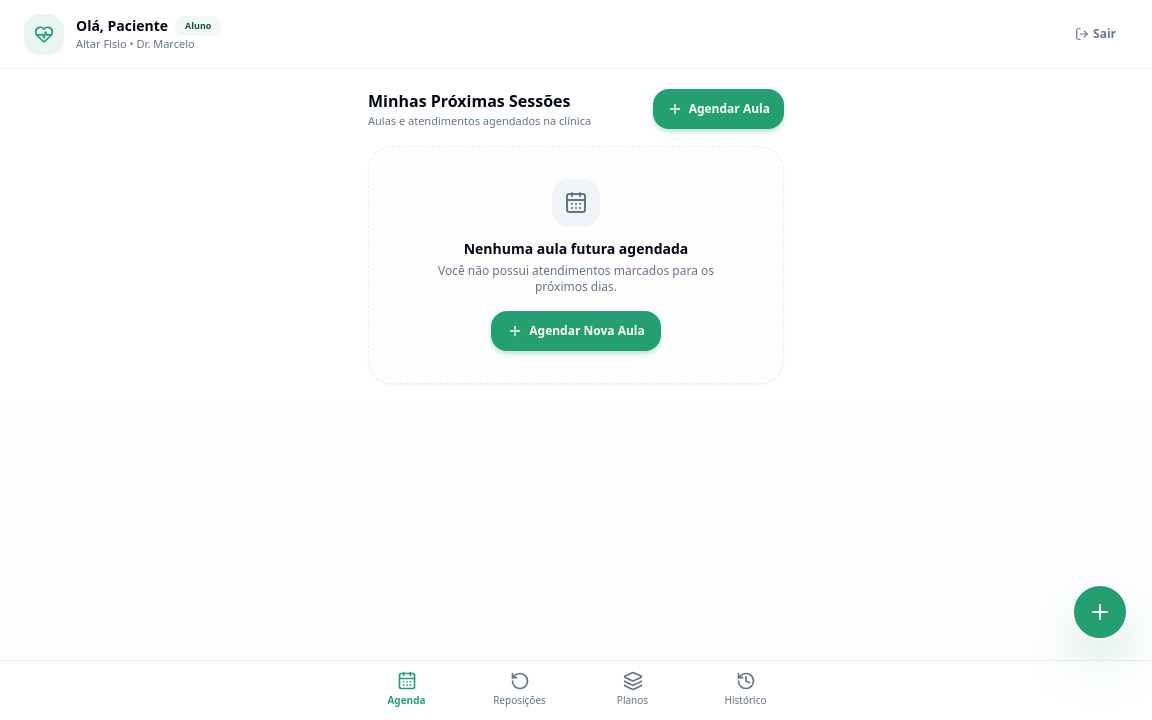
confirmation displays the actual time and resources of each occurrence
Click the button "Agendar Aula". click: (718, 109)
box: [653,89,784,129]
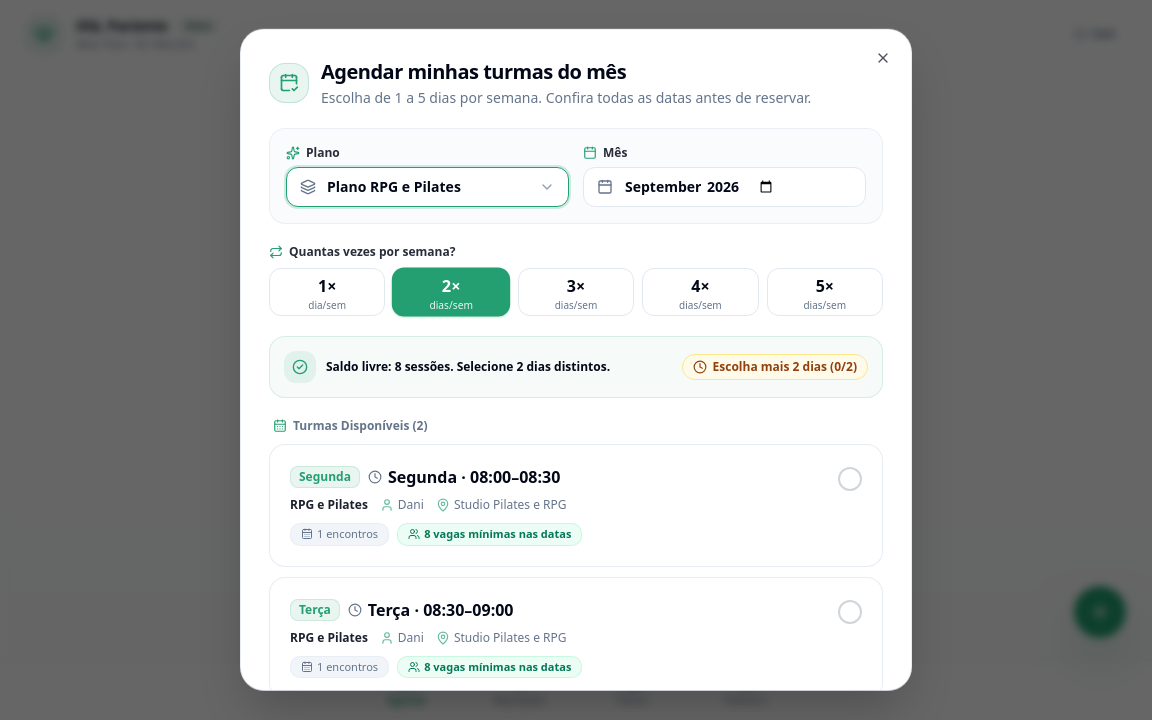
Click the button "1× dia/sem". click: (327, 292)
box: [269,268,385,316]
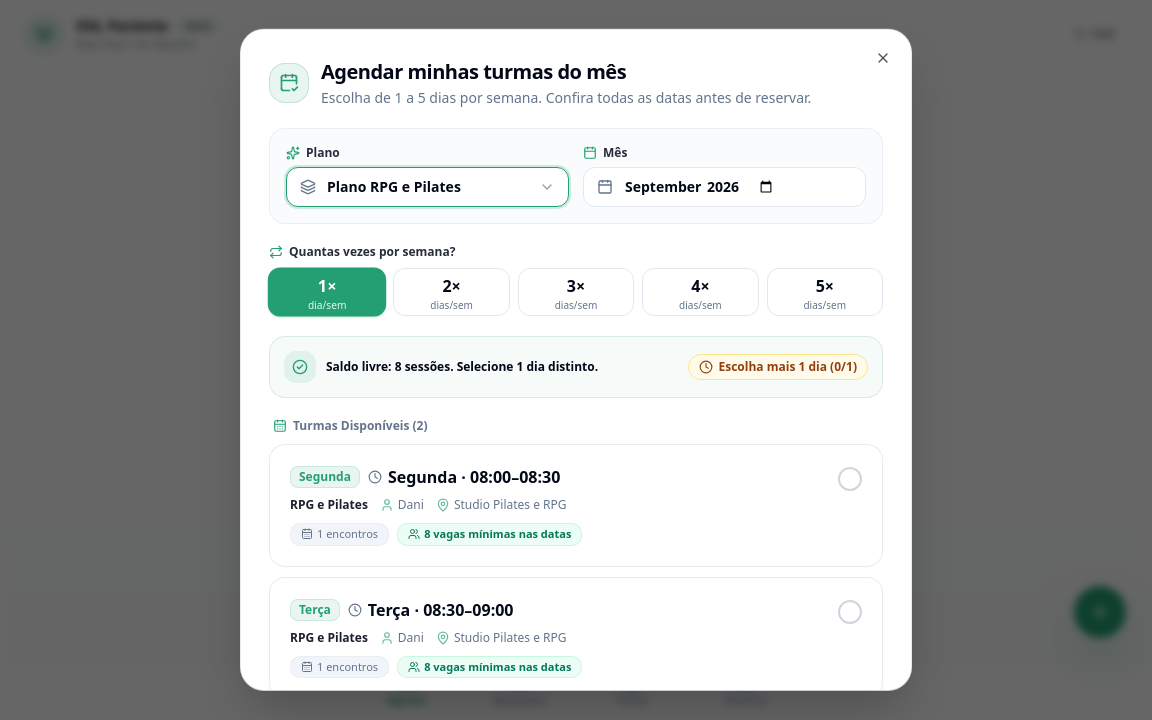
Click the button "Segunda · 08:00–08:30". click: (325, 477)
box: [269,444,883,566]
(page scrolled)
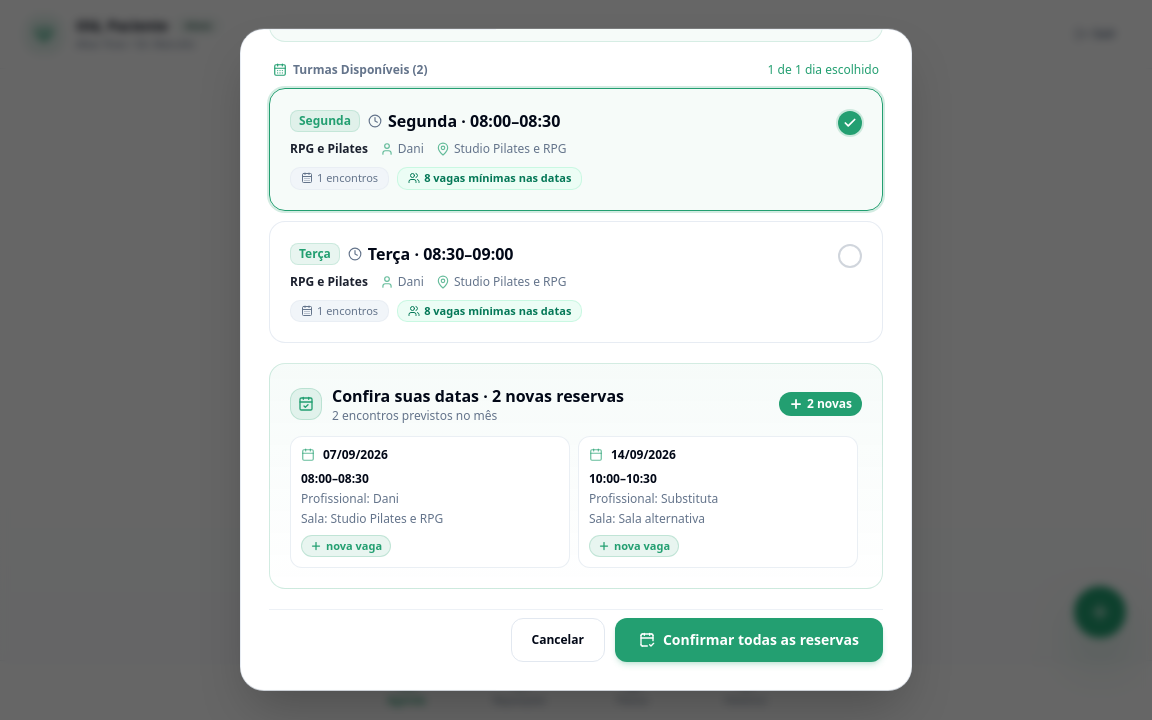
Expected: the text "08:00–08:30" is shown, [301,470,369,487]
Expected: the text "Profissional: Dani" is shown, [301,490,399,507]
Expected: the text "10:00–10:30" is shown, [589,470,657,487]
